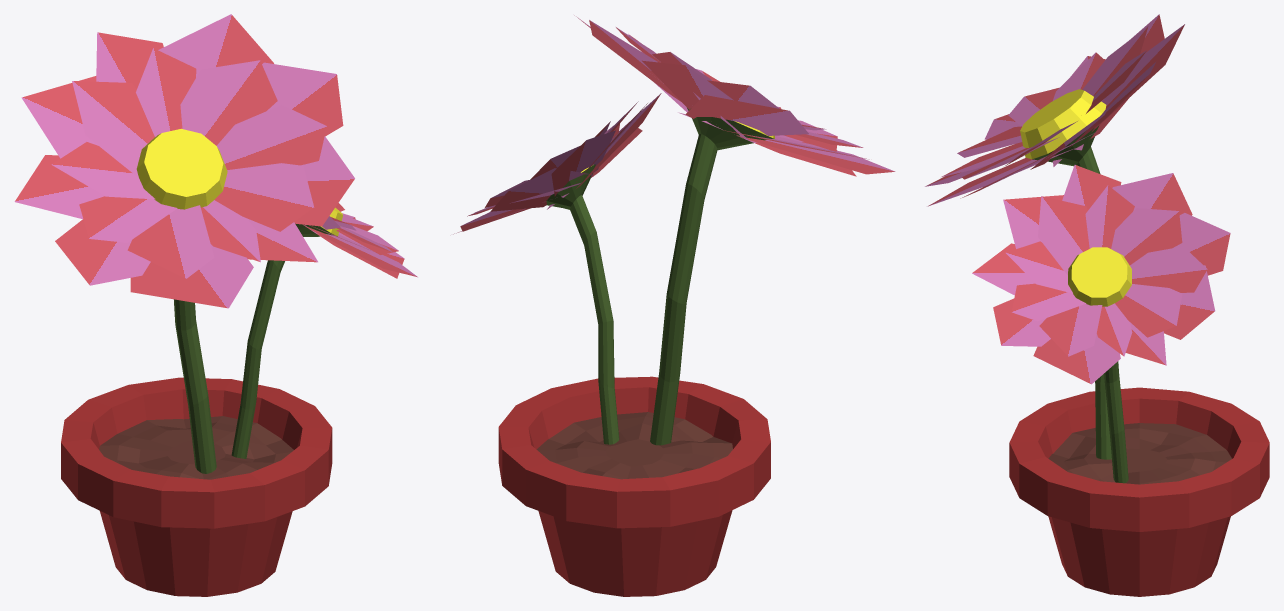
The model's file is flowers_pink.fbx.
The picture shows the model from 3 angles, left to right: view 1: azimuth 30°, elevation 25°; view 2: azimuth 150°, elevation 25°; view 3: azimuth 270°, elevation 25°; orthographic projection. The views are drawn at different scales.
Parts seen in each view (by area): view 1: Cylinder.018; view 2: Cylinder.018; view 3: Cylinder.018.
Boxes of the visible parts, left/top/right/bottom form: Cylinder.018: left=14, top=14, right=417, bottom=596; Cylinder.018: left=453, top=15, right=895, bottom=596; Cylinder.018: left=925, top=14, right=1269, bottom=596.
Size of the model in its own units: 36.84 by 48 by 29.54.
